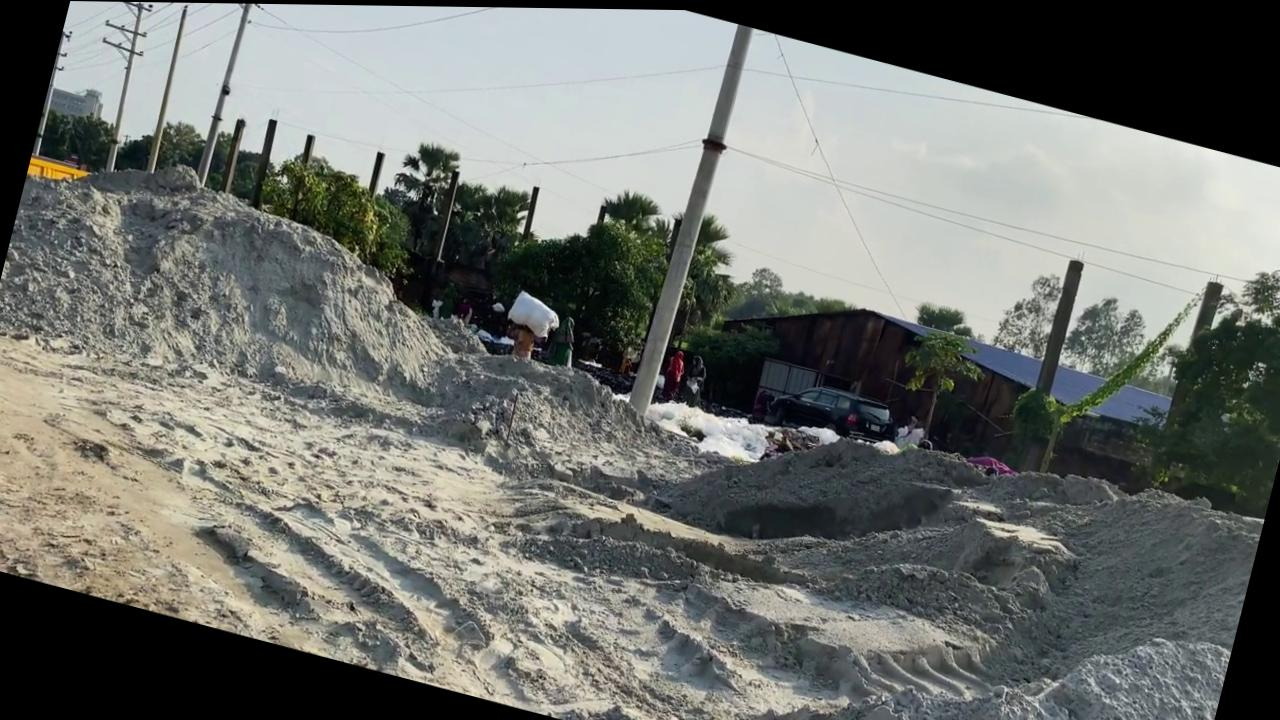Car: (759, 368, 902, 454)
Garbage: (0, 187, 1262, 720)
Pole: (624, 17, 756, 418), (140, 2, 194, 174), (1034, 253, 1085, 394), (427, 165, 462, 271), (247, 116, 280, 208), (285, 132, 316, 218), (218, 116, 248, 192), (519, 182, 541, 238), (366, 148, 385, 196)
Traffic-sign: (884, 316, 992, 449)
Tree: (26, 152, 94, 192)
